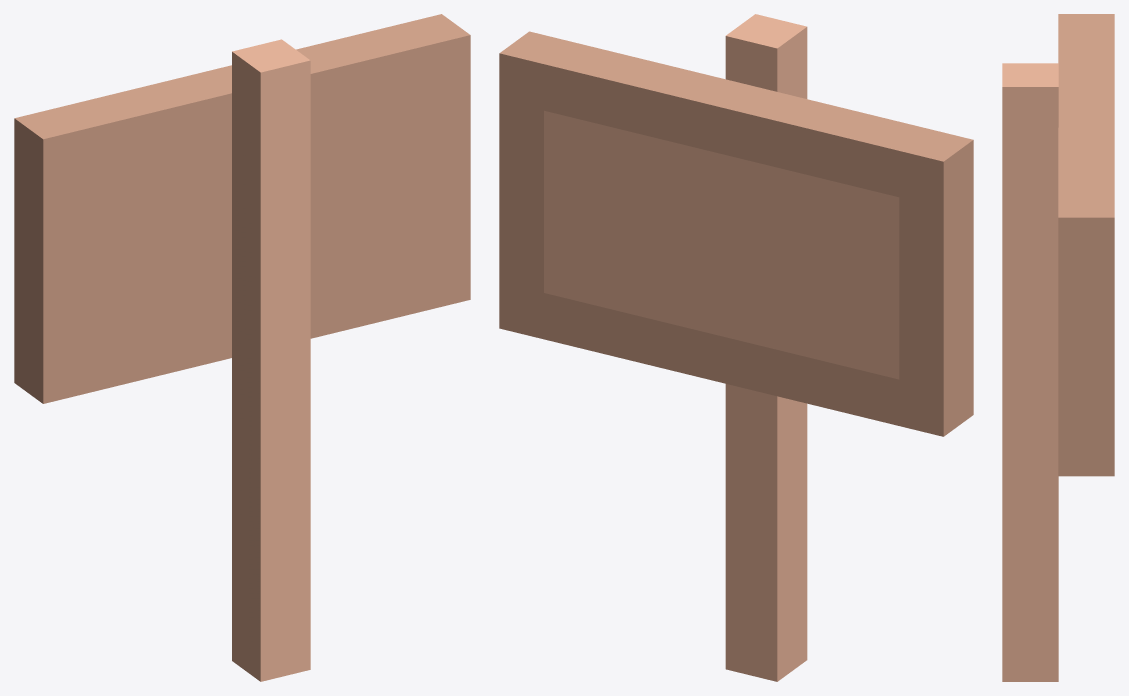
The model's file is sign.glb.
The picture shows the model from 3 angles, left to right: view 1: azimuth 30°, elevation 25°; view 2: azimuth 150°, elevation 25°; view 3: azimuth 270°, elevation 25°; orthographic projection. The views are drawn at different scales.
Visible parts, largest first — view 1: sign; view 2: sign; view 3: sign.
Boxes of the visible parts, x1,y1,x2,y2 form: sign: (14,14,470,681); sign: (499,14,973,681); sign: (1002,14,1114,681).
Size of the model in its own units: 0.3 by 0.4088 by 0.07.
1 material, 1 textured.
